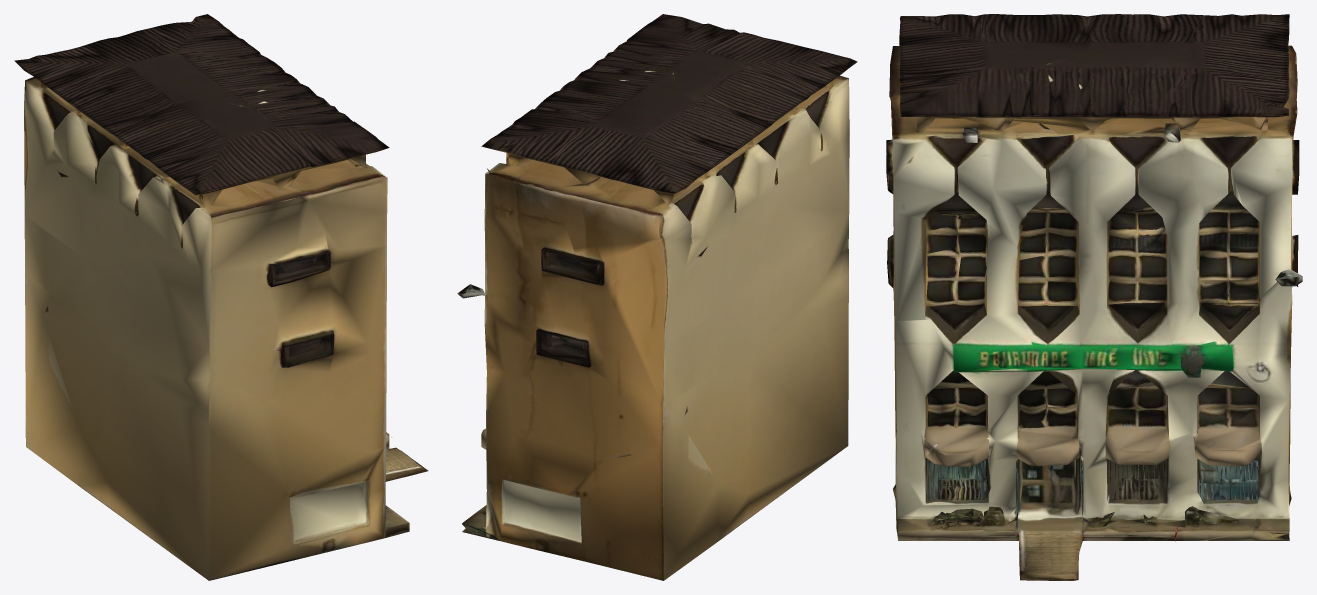
Rendered from pharmacie-haievive.glb.
3 views of the same model, side by side, from view 1: azimuth 30°, elevation 25°; view 2: azimuth 150°, elevation 25°; view 3: azimuth 270°, elevation 25° (orthographic). The views are drawn at different scales.
Visible parts, largest first — view 1: tripo_node_678145a0-0dce-448e-b3a4-bc420b33b475; view 2: tripo_node_678145a0-0dce-448e-b3a4-bc420b33b475; view 3: tripo_node_678145a0-0dce-448e-b3a4-bc420b33b475.
Part boxes in pixels (x1,y1,x2,y2): tripo_node_678145a0-0dce-448e-b3a4-bc420b33b475: (14,14,428,580); tripo_node_678145a0-0dce-448e-b3a4-bc420b33b475: (457,14,857,580); tripo_node_678145a0-0dce-448e-b3a4-bc420b33b475: (886,14,1302,580).
Size of the model in its own units: 0.7591 by 0.9975 by 0.884.
Materials: 1 (1 with a texture image).
